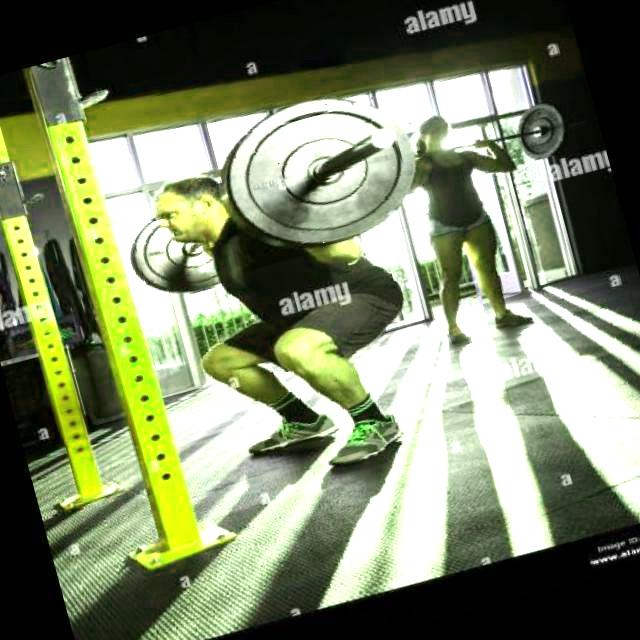barbell: (200, 71, 444, 273)
